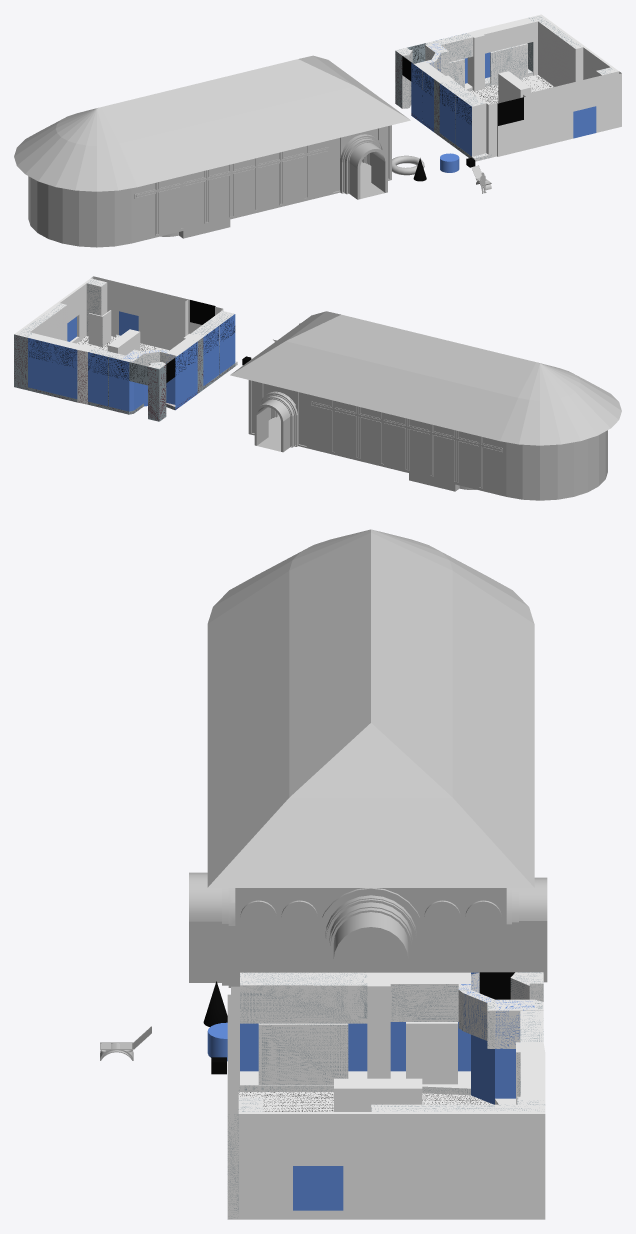
File: GalleryInterior.maya.obj
The picture shows the model from 3 angles, top to bottom: view 1: azimuth 30°, elevation 25°; view 2: azimuth 150°, elevation 25°; view 3: azimuth 270°, elevation 25°; orthographic projection. The views are drawn at different scales.
Parts seen in each view (by area): view 1: SwimmingPool ID1186, SwimmingPool, SwimmingPool ID1194, C33 ID229, C33 ID777, C33 ID335, C33 ID353, SwimmingPool ID304, SwimmingPool ID802, SwimmingPool ID794, C33 ID361, SwimmingPool ID338 (+32 smaller); view 2: SwimmingPool, SwimmingPool ID1194, C33 ID229, C33 ID343, C33 ID277, SwimmingPool ID442, SwimmingPool ID818, SwimmingPool ID810, C33 ID743, C33 ID608, SwimmingPool ID490, SwimmingPool ID506 (+37 smaller); view 3: SwimmingPool, SwimmingPool ID1194, C33 ID608, SwimmingPool ID1186, C33 ID251, C33 ID433, C33 ID401, C33 ID473, C33 ID277, C33, C33 ID481, C33 ID624 (+14 smaller).
Boxes of the visible parts, x1,y1,x2,y2 form: SwimmingPool ID1186: [119, 86, 410, 187]; SwimmingPool: [14, 56, 409, 247]; SwimmingPool ID1194: [55, 55, 354, 145]; C33 ID229: [472, 71, 621, 157]; C33 ID777: [527, 21, 583, 86]; C33 ID335: [465, 18, 533, 91]; C33 ID353: [485, 15, 582, 86]; SwimmingPool ID304: [134, 146, 328, 235]; SwimmingPool ID802: [136, 146, 327, 233]; SwimmingPool ID794: [135, 146, 327, 234]; C33 ID361: [435, 33, 473, 88]; SwimmingPool ID338: [308, 151, 328, 197]; SwimmingPool: [230, 311, 621, 500]; SwimmingPool ID1194: [286, 311, 580, 400]; C33 ID229: [93, 276, 223, 350]; C33 ID343: [14, 334, 143, 414]; C33 ID277: [109, 369, 186, 411]; SwimmingPool ID442: [311, 400, 502, 488]; SwimmingPool ID818: [312, 400, 501, 487]; SwimmingPool ID810: [311, 400, 501, 487]; C33 ID743: [148, 364, 166, 421]; C33 ID608: [14, 278, 92, 343]; SwimmingPool ID490: [482, 448, 502, 493]; SwimmingPool ID506: [360, 418, 380, 463]; SwimmingPool: [189, 547, 547, 987]; SwimmingPool ID1194: [289, 529, 452, 797]; C33 ID608: [238, 1112, 545, 1219]; SwimmingPool ID1186: [207, 571, 289, 887]; C33 ID251: [240, 972, 367, 1023]; C33 ID433: [258, 1023, 348, 1084]; C33 ID401: [240, 972, 470, 1088]; C33 ID473: [406, 1022, 457, 1084]; C33 ID277: [458, 1022, 515, 1104]; C33: [334, 1078, 422, 1111]; C33 ID481: [390, 984, 458, 1021]; C33 ID624: [293, 1166, 343, 1210].
Bounding box in the file's own units: 912 × 210 × 328.
